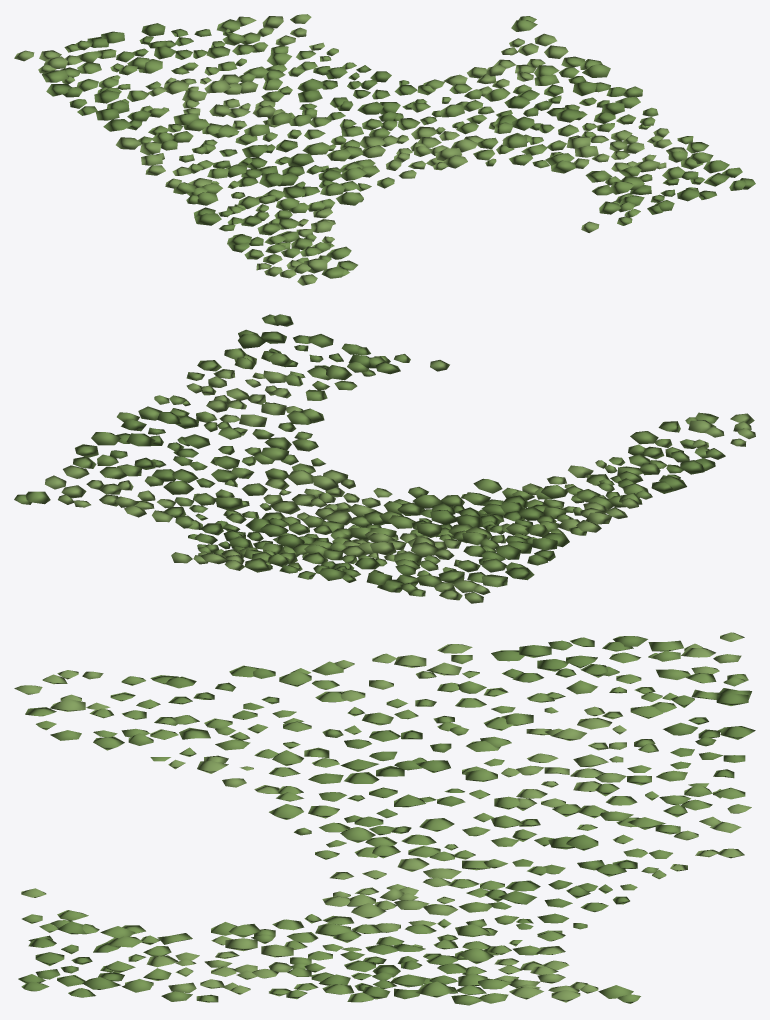
Rendered from canopy-1-4-5.glb.
The picture shows the model from 3 angles, top to bottom: view 1: azimuth 30°, elevation 25°; view 2: azimuth 150°, elevation 25°; view 3: azimuth 270°, elevation 25°; orthographic projection. The views are drawn at different scales.
Size of the model in its own units: 518 by 77.5 by 518.
Materials: 1 (1 with a texture image).
